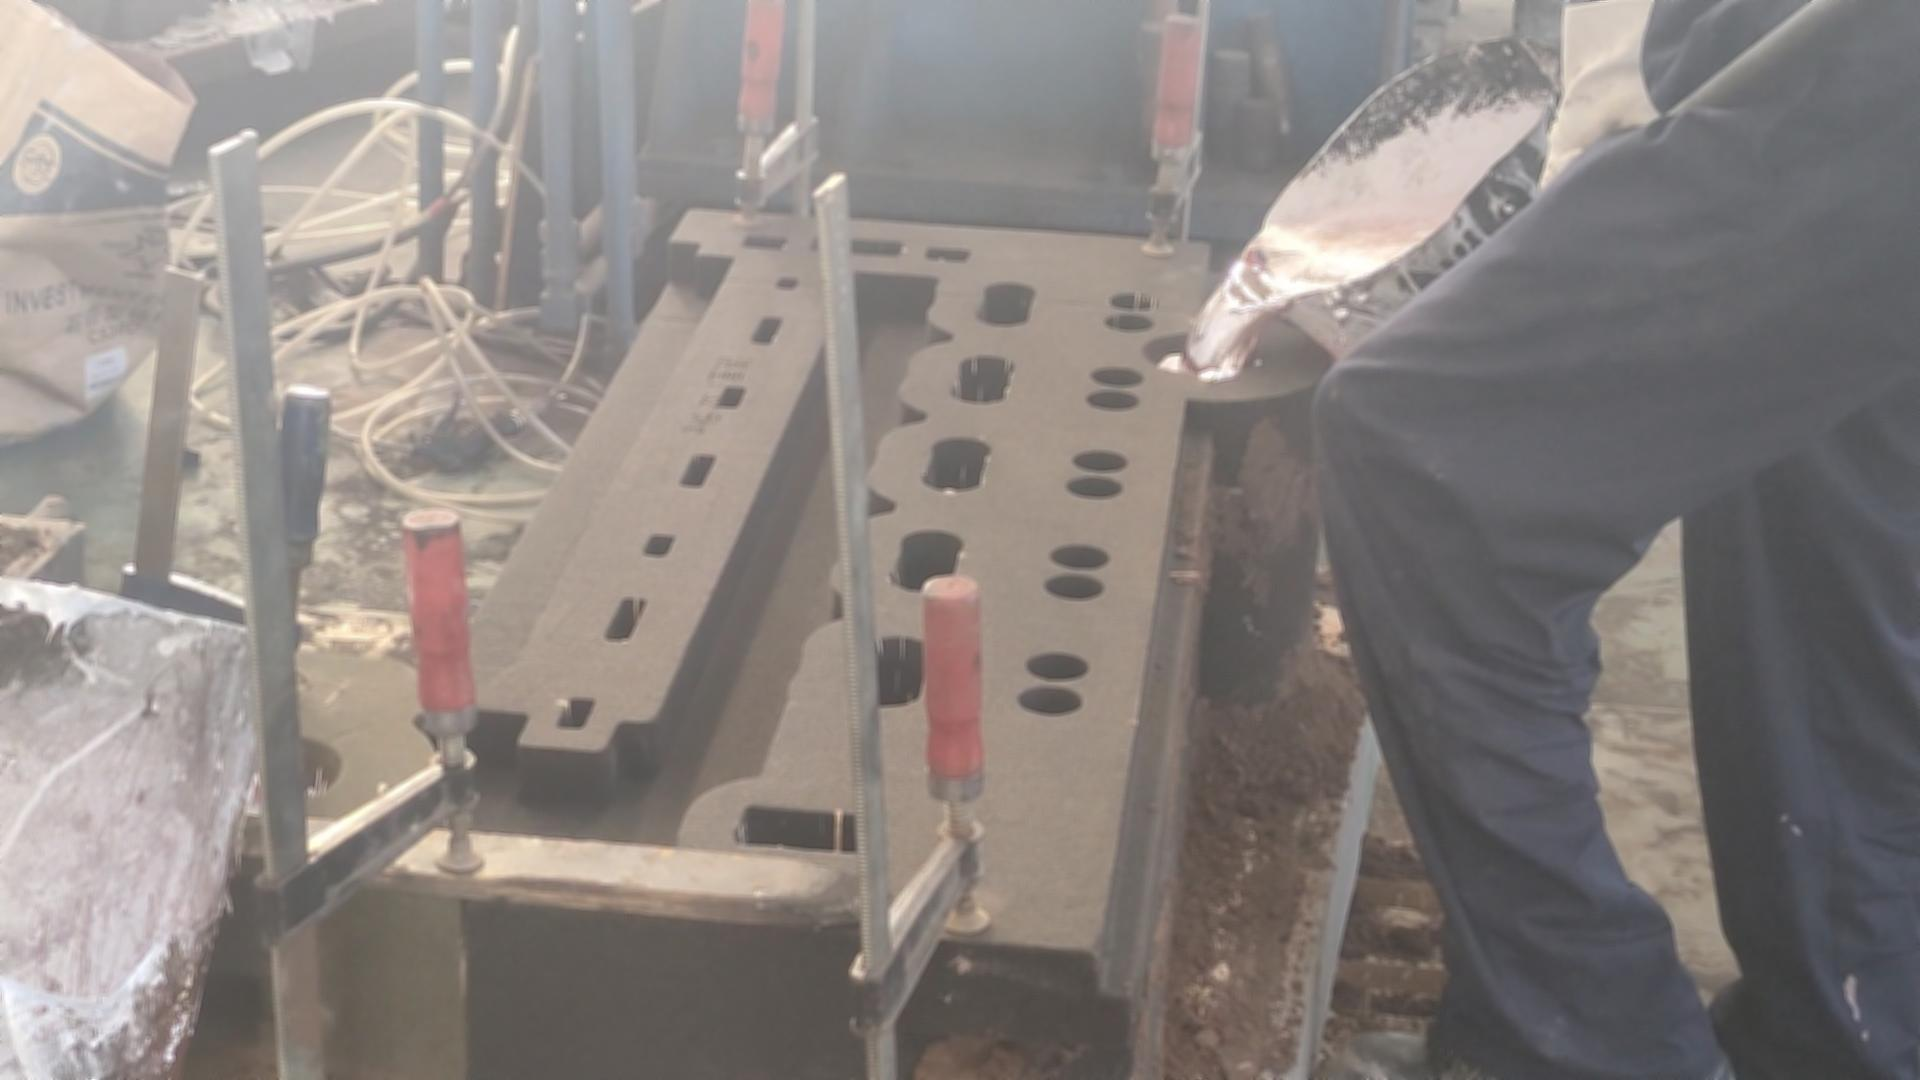pouring hole: (210, 731, 343, 804), (1142, 327, 1267, 378)
